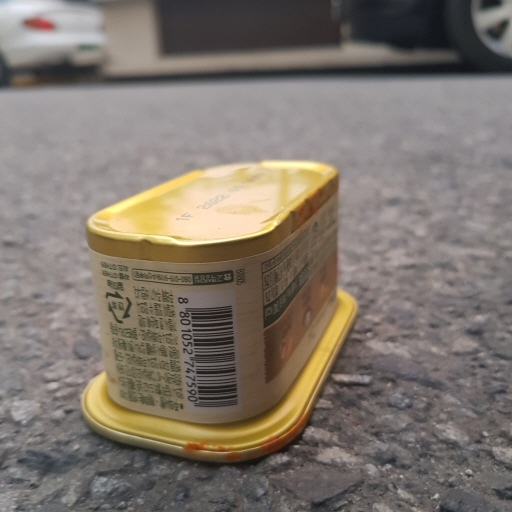Metal_2: (68, 152, 361, 460)
